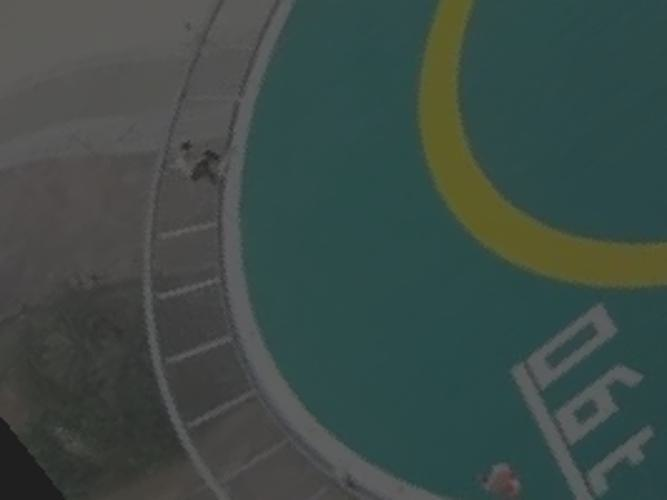Apron: (408, 10, 667, 302)
